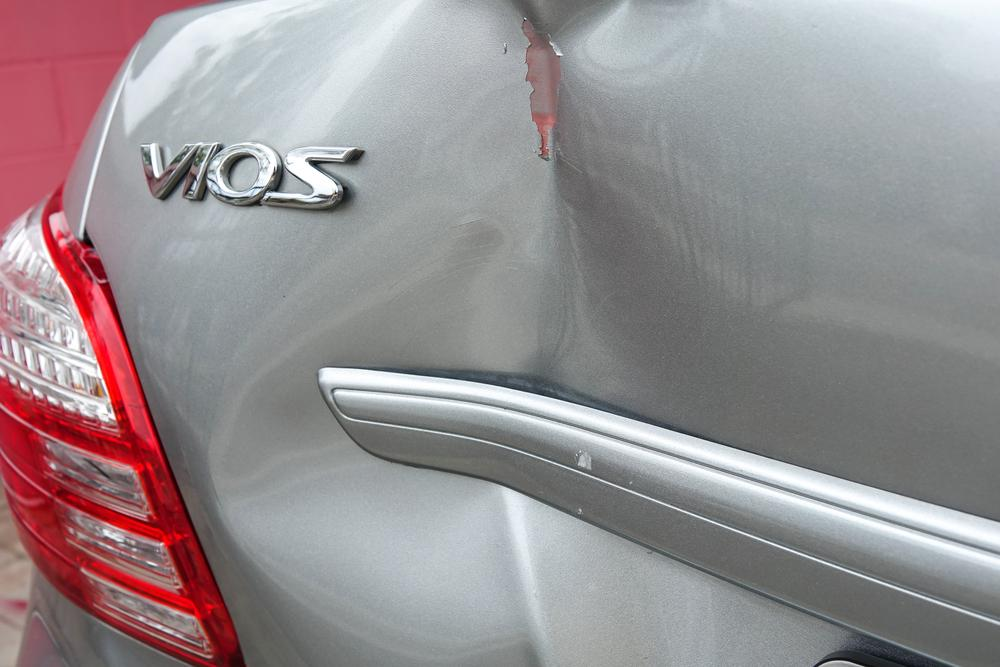dent: (211, 0, 712, 643)
